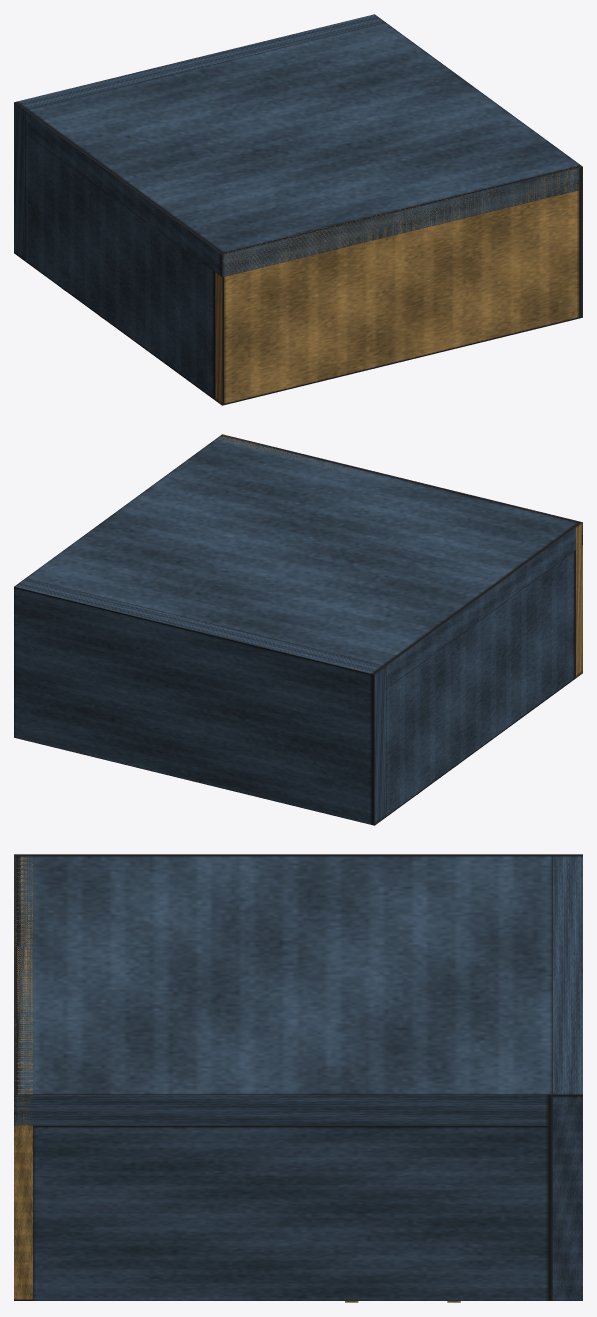
File: skyhotel_balcony_bay.obj
3 views of the same model, one above another, from view 1: azimuth 30°, elevation 25°; view 2: azimuth 150°, elevation 25°; view 3: azimuth 270°, elevation 25° (orthographic). The views are drawn at different scales.
Visible parts, largest first — view 1: skyhotel_balcony_bay; view 2: skyhotel_balcony_bay; view 3: skyhotel_balcony_bay.
Boxes of the visible parts, x1,y1,x2,y2 form: skyhotel_balcony_bay: (14,14,582,405); skyhotel_balcony_bay: (14,434,582,825); skyhotel_balcony_bay: (14,854,582,1302).
Bounding box in the file's own units: 3 × 1.22 × 3.
4 materials, 4 textured.
